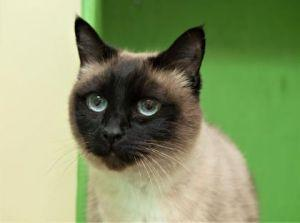siamese: (59, 8, 213, 193)
